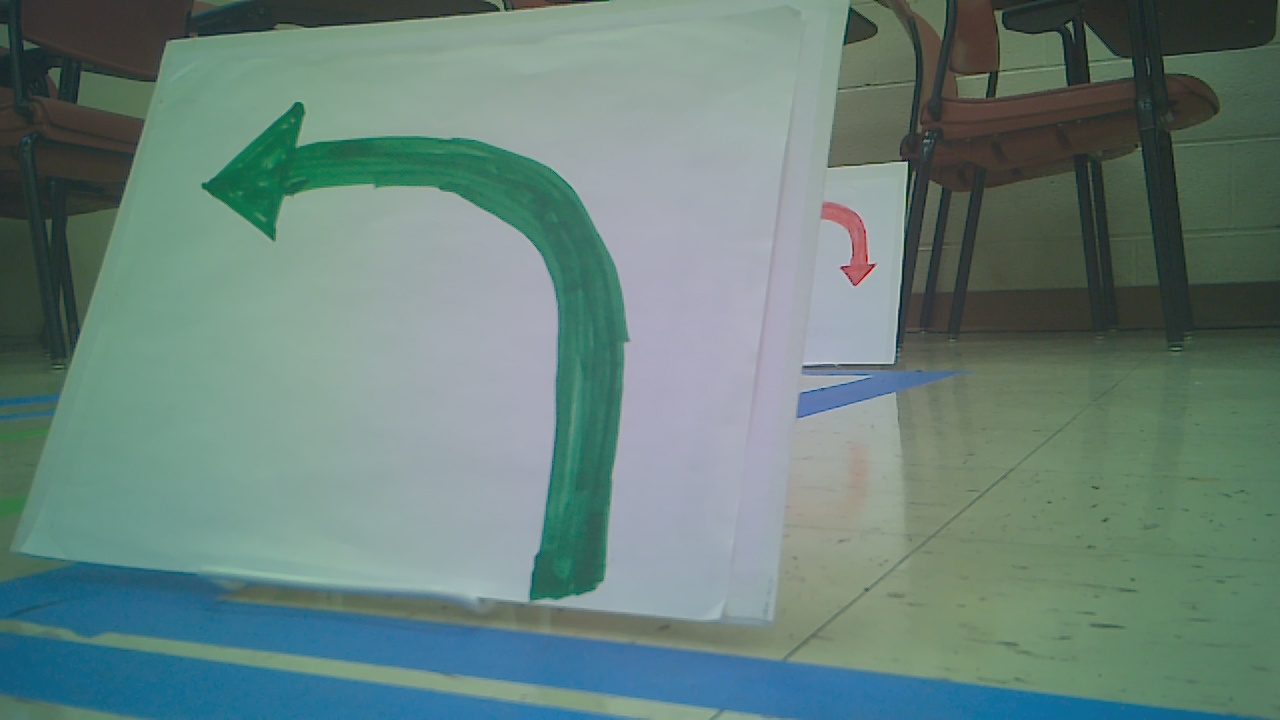left: (178, 97, 635, 600)
